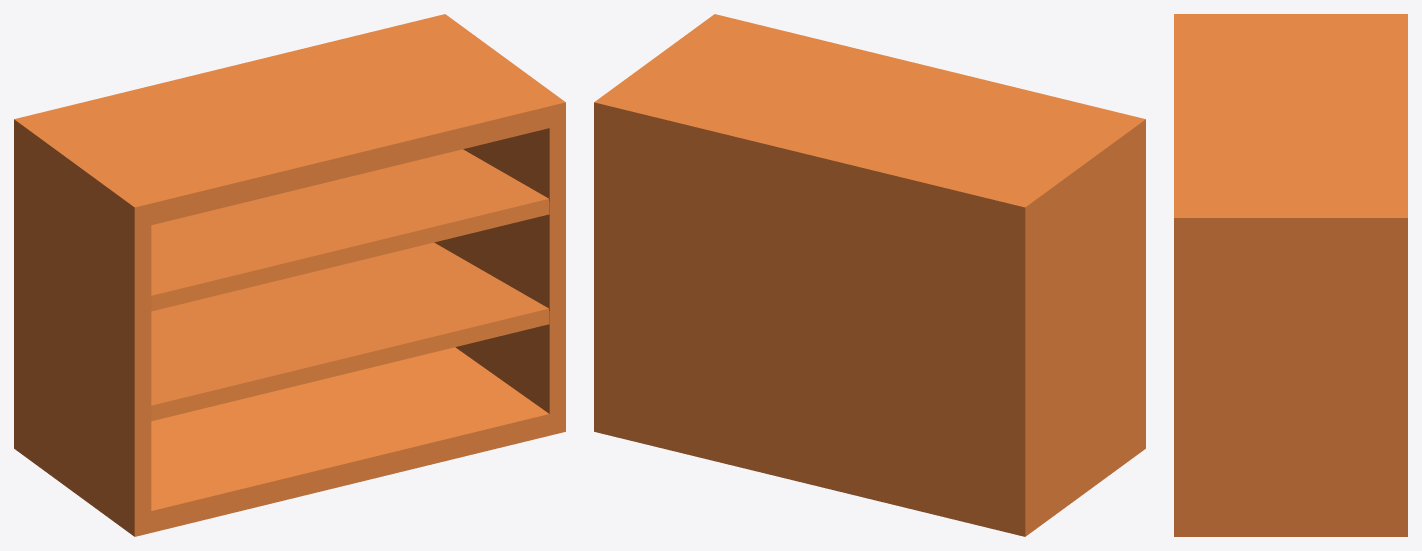
File: Estante.fbx
The picture shows the model from 3 angles, left to right: view 1: azimuth 30°, elevation 25°; view 2: azimuth 150°, elevation 25°; view 3: azimuth 270°, elevation 25°; orthographic projection. The views are drawn at different scales.
Visible parts, largest first — view 1: Cube.026; view 2: Cube.026; view 3: Cube.026.
Part boxes in pixels (x1,y1,x2,y2): Cube.026: [14, 14, 565, 536]; Cube.026: [594, 14, 1145, 536]; Cube.026: [1174, 14, 1407, 536].
Bounding box in the file's own units: 20.27 × 14.8 × 9.83.
